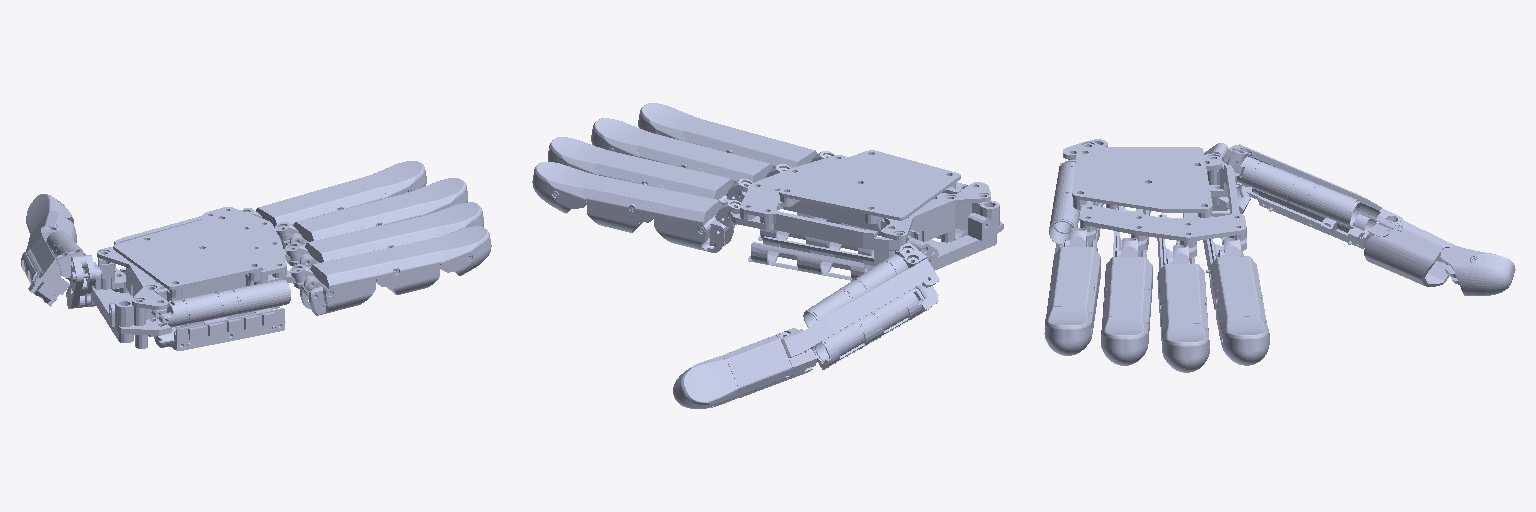
robot.urdf — 01_hand_r_fih_v20_asm:
<?xml version="1.0" encoding="utf-8"?>
<robot name="01_hand_r_fih_v20_asm">

	<material name="hand_color">
		<color rgba="0.792 0.820 0.933 1" />
	</material>

	<link name="fih_z_hand_r_base_link">
		<inertial>
			<origin xyz="0.024699 0.002853 0.001734" rpy="0 0 0" />
			<mass value="0.038686" />
			<inertia ixx="1.062968e-05" ixy="-3.748245e-06" ixz="-1.392614e-06" iyy="1.714280e-05" iyz="-2.573853e-07" izz="2.642744e-05" />
		</inertial>
		<visual>
			<geometry>
				<mesh filename="../meshes/FIH_HAND_R_ZHAOWEI/R_HAND_BASE.STL" />
			</geometry>
			<material name="hand_color" />
		</visual>
		<collision>
			<geometry>
				<mesh filename="../meshes/FIH_HAND_R_ZHAOWEI/R_HAND_BASE.STL" />
			</geometry>
		</collision>
	</link>

	<link name="L_T_J1">
		<inertial>
			<origin xyz="0.007145 -0.001439 0.004815" rpy="0 0 0" />
			<mass value="0.001791" />
			<inertia ixx="1.573251e-07" ixy="-7.117377e-09" ixz="4.372719e-09" iyy="1.398212e-07" iyz="-3.701533e-08" izz="5.541514e-08" />
		</inertial>
		<visual>
			<geometry>
				<mesh filename="../meshes/FIH_HAND_R_ZHAOWEI/L_T_J1.STL" />
			</geometry>
			<material name="hand_color" />
		</visual>
		<collision>
			<geometry>
				<mesh filename="../meshes/FIH_HAND_R_ZHAOWEI/L_T_J1.STL" />
			</geometry>
		</collision>
	</link>
	<joint name="T_J1" type="revolute">
		<origin xyz="-0.012827 0.032945 -0.011882" rpy="0 0 1.309" />
		<parent link="fih_z_hand_r_base_link" />
		<child link="L_T_J1" />
		<axis xyz="0 1 0" />
		<limit lower="0" upper="2.2835" effort="0" velocity="0" />
	</joint>

	<link name="L_T_J2">
		<inertial>
			<origin xyz="0.033861 0.000255 -0.005408" rpy="0 0 0" />
			<mass value="0.009615" />
			<inertia ixx="4.329191e-07" ixy="7.158225e-07" ixz="1.044962e-07" iyy="3.378217e-06" iyz="-4.819391e-08" izz="3.550903e-06" />
		</inertial>
		<visual>
			<geometry>
				<mesh filename="../meshes/FIH_HAND_R_ZHAOWEI/L_T_J2.STL" />
			</geometry>
			<material name="hand_color" />
		</visual>
		<collision>
			<geometry>
				<mesh filename="../meshes/FIH_HAND_R_ZHAOWEI/L_T_J2.STL" />
			</geometry>
		</collision>
	</link>
	<joint name="T_J2" type="revolute">
		<origin xyz="0.0097888 0.0051537 0.014364" rpy="-0.23678 0.26797 0" />
		<parent link="L_T_J1" />
		<child link="L_T_J2" />
		<axis xyz="0 0 1" />
		<limit lower="-1.3809" upper="0" effort="0" velocity="0" />
	</joint>

	<link name="L_T_J3">
		<inertial>
			<origin xyz="0.014122 0.001171 -0.000375" rpy="0 0 0" />
			<mass value="0.005264" />
			<inertia ixx="3.256736e-07" ixy="2.276884e-08" ixz="-9.251373e-08" iyy="6.447870e-07" iyz="-1.882080e-09" izz="6.874557e-07" />
		</inertial>
		<visual>
			<geometry>
				<mesh filename="../meshes/FIH_HAND_R_ZHAOWEI/L_T_J3.STL" />
			</geometry>
			<material name="hand_color" />
		</visual>
		<collision>
			<geometry>
				<mesh filename="../meshes/FIH_HAND_R_ZHAOWEI/L_T_J3.STL" />
			</geometry>
		</collision>
	</link>
	<joint name="T_J3" type="revolute">
		<origin xyz="0.06741 -0.0076576 -0.0085065" rpy="-0.61087 0 -0.33992" />
		<parent link="L_T_J2" />
		<child link="L_T_J3" />
		<axis xyz="0 1 0" />
		<limit lower="0" upper="1.0573" effort="0" velocity="0" />
	</joint>

	<link name="L_T_J4">
		<inertial>
			<origin xyz="0.012655 -0.000045 0.001432" rpy="0 0 0" />
			<mass value="0.005606" />
			<inertia ixx="2.516417e-07" ixy="-2.154044e-09" ixz="-6.616384e-08" iyy="3.073506e-07" iyz="-1.532852e-09" izz="3.591174e-07" />
		</inertial>
		<visual>
			<geometry>
				<mesh filename="../meshes/FIH_HAND_R_ZHAOWEI/L_T_J4.STL" />
			</geometry>
			<material name="hand_color" />
		</visual>
		<collision>
			<geometry>
				<mesh filename="../meshes/FIH_HAND_R_ZHAOWEI/L_T_J4.STL" />
			</geometry>
		</collision>
	</link>
	<joint name="T_J4" type="revolute">
		<origin xyz="0.0365 0 0.0029378" rpy="0 0 0" />
		<parent link="L_T_J3" />
		<child link="L_T_J4" />
		<axis xyz="0 1 0" />
		<limit lower="0" upper="0.7714" effort="0" velocity="0" />
	</joint>

	<link name="L_F1_J1">
		<inertial>
			<origin xyz="0.002490 -0.001196 -0.002215" rpy="0 0 0" />
			<mass value="0.000594" />
			<inertia ixx="1.235470e-08" ixy="5.142835e-10" ixz="1.253181e-09" iyy="1.259654e-08" iyz="-1.965720e-09" izz="7.479375e-09" />
		</inertial>
		<visual>
			<geometry>
				<mesh filename="../meshes/FIH_HAND_R_ZHAOWEI/L_F1_J1.STL" />
			</geometry>
			<material name="hand_color" />
		</visual>
		<collision>
			<geometry>
				<mesh filename="../meshes/FIH_HAND_R_ZHAOWEI/L_F1_J1.STL" />
			</geometry>
		</collision>
	</link>
	<joint name="F1_J1" type="revolute">
		<origin xyz="0.079768 0.039143 0.0041075" rpy="0 -0.2618 0.073258" />
		<parent link="fih_z_hand_r_base_link" />
		<child link="L_F1_J1" />
		<axis xyz="0 0 1" />
		<limit lower="-0.2618" upper="0.2618" effort="0" velocity="0" />
	</joint>

	<link name="L_F1_J2">
		<inertial>
			<origin xyz="0.013691 0.000867 0.000898" rpy="0 0 0" />
			<mass value="0.004158" />
			<inertia ixx="2.663598e-07" ixy="-1.964405e-09" ixz="-7.452387e-08" iyy="4.709684e-07" iyz="-3.794088e-09" izz="5.335600e-07" />
		</inertial>
		<visual>
			<geometry>
				<mesh filename="../meshes/FIH_HAND_R_ZHAOWEI/L_F1_J2.STL" />
			</geometry>
			<material name="hand_color" />
		</visual>
		<collision>
			<geometry>
				<mesh filename="../meshes/FIH_HAND_R_ZHAOWEI/L_F1_J2.STL" />
			</geometry>
		</collision>
	</link>
	<joint name="F1_J2" type="revolute">
		<origin xyz="0.003 -0.000825 -0.009075" rpy="0 0.2618 0" />
		<parent link="L_F1_J1" />
		<child link="L_F1_J2" />
		<axis xyz="0 1 0" />
		<limit lower="-0.3222" upper="1.4912" effort="0" velocity="0" />
	</joint>

	<link name="L_F1_J3">
		<inertial>
			<origin xyz="0.013726 -0.000171 -0.001798" rpy="0 0 0" />
			<mass value="0.004373" />
			<inertia ixx="2.552264e-07" ixy="5.181572e-09" ixz="9.373228e-10" iyy="4.841354e-07" iyz="6.949725e-10" izz="5.797885e-07" />
		</inertial>
		<visual>
			<geometry>
				<mesh filename="../meshes/FIH_HAND_R_ZHAOWEI/L_F1_J3.STL" />
			</geometry>
			<material name="hand_color" />
		</visual>
		<collision>
			<geometry>
				<mesh filename="../meshes/FIH_HAND_R_ZHAOWEI/L_F1_J3.STL" />
			</geometry>
		</collision>
	</link>
	<joint name="F1_J3" type="revolute">
		<origin xyz="0.033 0.000825 0.004" rpy="0 0 0" />
		<parent link="L_F1_J2" />
		<child link="L_F1_J3" />
		<axis xyz="0 1 0" />
		<limit lower="0" upper="1.2966" effort="0" velocity="0" />
	</joint>

	<link name="L_F1_J4">
		<inertial>
			<origin xyz="0.012816 -0.000022 -0.000164" rpy="0 0 0" />
			<mass value="0.005541" />
			<inertia ixx="2.356529e-07" ixy="-2.332143e-09" ixz="-5.046792e-08" iyy="3.073145e-07" iyz="-1.246694e-09" izz="3.730348e-07" />
		</inertial>
		<visual>
			<geometry>
				<mesh filename="../meshes/FIH_HAND_R_ZHAOWEI/L_F1_J4.STL" />
			</geometry>
			<material name="hand_color" />
		</visual>
		<collision>
			<geometry>
				<mesh filename="../meshes/FIH_HAND_R_ZHAOWEI/L_F1_J4.STL" />
			</geometry>
		</collision>
	</link>
	<joint name="F1_J4" type="revolute">
		<origin xyz="0.033 0 0" rpy="0 0 0" />
		<parent link="L_F1_J3" />
		<child link="L_F1_J4" />
		<axis xyz="0 1 0" />
		<limit lower="0" upper="1.1421" effort="0" velocity="0" />
	</joint>

	<link name="L_F2_J1">
		<inertial>
			<origin xyz="0.002979 -0.001196 -0.001495" rpy="0 0 0" />
			<mass value="0.000594" />
			<inertia ixx="1.140153e-08" ixy="1.005525e-09" ixz="2.304119e-09" iyy="1.259654e-08" iyz="-1.765635e-09" izz="8.432551e-09" />
		</inertial>
		<visual>
			<geometry>
				<mesh filename="../meshes/FIH_HAND_R_ZHAOWEI/L_F2_J1.STL" />
			</geometry>
			<material name="hand_color" />
		</visual>
		<collision>
			<geometry>
				<mesh filename="../meshes/FIH_HAND_R_ZHAOWEI/L_F2_J1.STL" />
			</geometry>
		</collision>
	</link>
	<joint name="F2_J1" type="revolute">
		<origin xyz="0.086755 0.017383 0.0041075" rpy="0 0 0.027471" />
		<parent link="fih_z_hand_r_base_link" />
		<child link="L_F2_J1" />
		<axis xyz="0 0 1" />
		<limit lower="-0.2618" upper="0.2618" effort="0" velocity="0" />
	</joint>

	<link name="L_F2_J2">
		<inertial>
			<origin xyz="0.013691 0.000867 0.000898" rpy="0 0 0" />
			<mass value="0.004158" />
			<inertia ixx="2.663598e-07" ixy="-1.964402e-09" ixz="-7.452387e-08" iyy="4.709684e-07" iyz="-3.794091e-09" izz="5.335600e-07" />
		</inertial>
		<visual>
			<geometry>
				<mesh filename="../meshes/FIH_HAND_R_ZHAOWEI/L_F2_J2.STL" />
			</geometry>
			<material name="hand_color" />
		</visual>
		<collision>
			<geometry>
				<mesh filename="../meshes/FIH_HAND_R_ZHAOWEI/L_F2_J2.STL" />
			</geometry>
		</collision>
	</link>
	<joint name="F2_J2" type="revolute">
		<origin xyz="0.0052466 -0.000825 -0.0079893" rpy="0 0 0" />
		<parent link="L_F2_J1" />
		<child link="L_F2_J2" />
		<axis xyz="0 1 0" />
		<limit lower="-0.3028" upper="1.5151" effort="0" velocity="0" />
	</joint>

	<link name="L_F2_J3">
		<inertial>
			<origin xyz="0.013751 -0.000201 -0.001812" rpy="0 0 0" />
			<mass value="0.004357" />
			<inertia ixx="2.551663e-07" ixy="5.181590e-09" ixz="9.373164e-10" iyy="4.841229e-07" iyz="6.948953e-10" izz="5.797284e-07" />
		</inertial>
		<visual>
			<geometry>
				<mesh filename="../meshes/FIH_HAND_R_ZHAOWEI/L_F2_J3.STL" />
			</geometry>
			<material name="hand_color" />
		</visual>
		<collision>
			<geometry>
				<mesh filename="../meshes/FIH_HAND_R_ZHAOWEI/L_F2_J3.STL" />
			</geometry>
		</collision>
	</link>
	<joint name="F2_J3" type="revolute">
		<origin xyz="0.033 0.000825 0.004" rpy="0 0 0" />
		<parent link="L_F2_J2" />
		<child link="L_F2_J3" />
		<axis xyz="0 1 0" />
		<limit lower="0" upper="1.2966" effort="0" velocity="0" />
	</joint>

	<link name="L_F2_J4">
		<inertial>
			<origin xyz="0.012816 -0.000022 -0.000164" rpy="0 0 0" />
			<mass value="0.005541" />
			<inertia ixx="2.356529e-07" ixy="-2.332073e-09" ixz="-5.046791e-08" iyy="3.073143e-07" iyz="-1.246742e-09" izz="3.730346e-07" />
		</inertial>
		<visual>
			<geometry>
				<mesh filename="../meshes/FIH_HAND_R_ZHAOWEI/L_F2_J4.STL" />
			</geometry>
			<material name="hand_color" />
		</visual>
		<collision>
			<geometry>
				<mesh filename="../meshes/FIH_HAND_R_ZHAOWEI/L_F2_J4.STL" />
			</geometry>
		</collision>
	</link>
	<joint name="F2_J4" type="revolute">
		<origin xyz="0.033 0 0" rpy="0 0 0" />
		<parent link="L_F2_J3" />
		<child link="L_F2_J4" />
		<axis xyz="0 1 0" />
		<limit lower="0" upper="1.1421" effort="0" velocity="0" />
	</joint>

	<link name="L_F3_J1">
		<inertial>
			<origin xyz="0.002490 -0.001196 -0.002215" rpy="0 0 0" />
			<mass value="0.000594" />
			<inertia ixx="1.235470e-08" ixy="5.142829e-10" ixz="1.253181e-09" iyy="1.259654e-08" iyz="-1.965722e-09" izz="7.479376e-09" />
		</inertial>
		<visual>
			<geometry>
				<mesh filename="../meshes/FIH_HAND_R_ZHAOWEI/L_F3_J1.STL" />
			</geometry>
			<material name="hand_color" />
		</visual>
		<collision>
			<geometry>
				<mesh filename="../meshes/FIH_HAND_R_ZHAOWEI/L_F3_J1.STL" />
			</geometry>
		</collision>
	</link>
	<joint name="F3_J1" type="revolute">
		<origin xyz="0.079755 -0.0043288 0.0041075" rpy="0 -0.2618 -0.027469" />
		<parent link="fih_z_hand_r_base_link" />
		<child link="L_F3_J1" />
		<axis xyz="0 0 1" />
		<limit lower="-0.2618" upper="0.2618" effort="0" velocity="0" />
	</joint>

	<link name="L_F3_J2">
		<inertial>
			<origin xyz="0.013691 0.000867 0.000898" rpy="0 0 0" />
			<mass value="0.004158" />
			<inertia ixx="2.663598e-07" ixy="-1.964398e-09" ixz="-7.452386e-08" iyy="4.709685e-07" iyz="-3.794094e-09" izz="5.335601e-07" />
		</inertial>
		<visual>
			<geometry>
				<mesh filename="../meshes/FIH_HAND_R_ZHAOWEI/L_F3_J2.STL" />
			</geometry>
			<material name="hand_color" />
		</visual>
		<collision>
			<geometry>
				<mesh filename="../meshes/FIH_HAND_R_ZHAOWEI/L_F3_J2.STL" />
			</geometry>
		</collision>
	</link>
	<joint name="F3_J2" type="revolute">
		<origin xyz="0.003 -0.000825 -0.009075" rpy="0 0.2618 0" />
		<parent link="L_F3_J1" />
		<child link="L_F3_J2" />
		<axis xyz="0 1 0" />
		<limit lower="-0.2820" upper="1.5423" effort="0" velocity="0" />
	</joint>

	<link name="L_F3_J3">
		<inertial>
			<origin xyz="0.013726 -0.000171 -0.001798" rpy="0 0 0" />
			<mass value="0.004373" />
			<inertia ixx="2.552264e-07" ixy="5.181545e-09" ixz="9.373220e-10" iyy="4.841356e-07" iyz="6.949806e-10" izz="5.797886e-07" />
		</inertial>
		<visual>
			<geometry>
				<mesh filename="../meshes/FIH_HAND_R_ZHAOWEI/L_F3_J3.STL" />
			</geometry>
			<material name="hand_color" />
		</visual>
		<collision>
			<geometry>
				<mesh filename="../meshes/FIH_HAND_R_ZHAOWEI/L_F3_J3.STL" />
			</geometry>
		</collision>
	</link>
	<joint name="F3_J3" type="revolute">
		<origin xyz="0.033 0.000825 0.004" rpy="0 0 0" />
		<parent link="L_F3_J2" />
		<child link="L_F3_J3" />
		<axis xyz="0 1 0" />
		<limit lower="0" upper="1.2966" effort="0" velocity="0" />
	</joint>

	<link name="L_F3_J4">
		<inertial>
			<origin xyz="0.012816 -0.000022 -0.000164" rpy="0 0 0" />
			<mass value="0.005541" />
			<inertia ixx="2.356528e-07" ixy="-2.332004e-09" ixz="-5.046791e-08" iyy="3.073141e-07" iyz="-1.246774e-09" izz="3.730344e-07" />
		</inertial>
		<visual>
			<geometry>
				<mesh filename="../meshes/FIH_HAND_R_ZHAOWEI/L_F3_J4.STL" />
			</geometry>
			<material name="hand_color" />
		</visual>
		<collision>
			<geometry>
				<mesh filename="../meshes/FIH_HAND_R_ZHAOWEI/L_F3_J4.STL" />
			</geometry>
		</collision>
	</link>
	<joint name="F3_J4" type="revolute">
		<origin xyz="0.033 0 0" rpy="0 0 0" />
		<parent link="L_F3_J3" />
		<child link="L_F3_J4" />
		<axis xyz="0 1 0" />
		<limit lower="0" upper="1.1421" effort="0" velocity="0" />
	</joint>

	<link name="L_F4_J1">
		<inertial>
			<origin xyz="0.002490 -0.001196 -0.002215" rpy="0 0 0" />
			<mass value="0.000594" />
			<inertia ixx="1.235470e-08" ixy="5.142829e-10" ixz="1.253181e-09" iyy="1.259654e-08" iyz="-1.965722e-09" izz="7.479375e-09" />
		</inertial>
		<visual>
			<geometry>
				<mesh filename="../meshes/FIH_HAND_R_ZHAOWEI/L_F4_J1.STL" />
			</geometry>
			<material name="hand_color" />
		</visual>
		<collision>
			<geometry>
				<mesh filename="../meshes/FIH_HAND_R_ZHAOWEI/L_F4_J1.STL" />
			</geometry>
		</collision>
	</link>
	<joint name="F4_J1" type="revolute">
		<origin xyz="0.069761 -0.026185 0.0041075" rpy="0 -0.2618 -0.054935" />
		<parent link="fih_z_hand_r_base_link" />
		<child link="L_F4_J1" />
		<axis xyz="0 0 1" />
		<limit lower="-0.2618" upper="0.2618" effort="0" velocity="0" />
	</joint>

	<link name="L_F4_J2">
		<inertial>
			<origin xyz="0.013691 0.000867 0.000898" rpy="0 0 0" />
			<mass value="0.004158" />
			<inertia ixx="2.663597e-07" ixy="-1.964396e-09" ixz="-7.452386e-08" iyy="4.709685e-07" iyz="-3.794094e-09" izz="5.335601e-07" />
		</inertial>
		<visual>
			<geometry>
				<mesh filename="../meshes/FIH_HAND_R_ZHAOWEI/L_F4_J2.STL" />
			</geometry>
			<material name="hand_color" />
		</visual>
		<collision>
			<geometry>
				<mesh filename="../meshes/FIH_HAND_R_ZHAOWEI/L_F4_J2.STL" />
			</geometry>
		</collision>
	</link>
	<joint name="F4_J2" type="revolute">
		<origin xyz="0.003 -0.000825 -0.009075" rpy="0 0.2618 0" />
		<parent link="L_F4_J1" />
		<child link="L_F4_J2" />
		<axis xyz="0 1 0" />
		<limit lower="-0.2608" upper="1.5722" effort="0" velocity="0" />
	</joint>

	<link name="L_F4_J3">
		<inertial>
			<origin xyz="0.013726 -0.000171 -0.001798" rpy="0 0 0" />
			<mass value="0.004373" />
			<inertia ixx="2.552264e-07" ixy="5.181534e-09" ixz="9.373218e-10" iyy="4.841356e-07" iyz="6.949833e-10" izz="5.797887e-07" />
		</inertial>
		<visual>
			<geometry>
				<mesh filename="../meshes/FIH_HAND_R_ZHAOWEI/L_F4_J3.STL" />
			</geometry>
			<material name="hand_color" />
		</visual>
		<collision>
			<geometry>
				<mesh filename="../meshes/FIH_HAND_R_ZHAOWEI/L_F4_J3.STL" />
			</geometry>
		</collision>
	</link>
	<joint name="F4_J3" type="revolute">
		<origin xyz="0.033 0.000825 0.004" rpy="0 0 0" />
		<parent link="L_F4_J2" />
		<child link="L_F4_J3" />
		<axis xyz="0 1 0" />
		<limit lower="0" upper="1.2966" effort="0" velocity="0" />
	</joint>

	<link name="L_F4_J4">
		<inertial>
			<origin xyz="0.012816 -0.000022 -0.000164" rpy="0 0 0" />
			<mass value="0.005541" />
			<inertia ixx="2.356528e-07" ixy="-2.332015e-09" ixz="-5.046791e-08" iyy="3.073142e-07" iyz="-1.246758e-09" izz="3.730345e-07" />
		</inertial>
		<visual>
			<geometry>
				<mesh filename="../meshes/FIH_HAND_R_ZHAOWEI/L_F4_J4.STL" />
			</geometry>
			<material name="hand_color" />
		</visual>
		<collision>
			<geometry>
				<mesh filename="../meshes/FIH_HAND_R_ZHAOWEI/L_F4_J4.STL" />
			</geometry>
		</collision>
	</link>
	<joint name="F4_J4" type="revolute">
		<origin xyz="0.033 0 0" rpy="0 0 0" />
		<parent link="L_F4_J3" />
		<child link="L_F4_J4" />
		<axis xyz="0 1 0" />
		<limit lower="0" upper="1.1421" effort="0" velocity="0" />
	</joint>

	<link name="wrist_center">
		<inertial>
			<origin xyz="0 0 0" rpy="0 0 0" />
			<mass value="0" />
			<inertia ixx="0" ixy="0" ixz="0" iyy="0" iyz="0" izz="0" />
		</inertial>
	</link>
	<joint name="wrist_center_joint" type="fixed">
		<origin xyz="-0.018 0.002853 0.001734" rpy="0 0 0" />
		<parent link="fih_z_hand_r_base_link" />
		<child link="wrist_center" />
	</joint>

	<link name="thumb_tip">
		<inertial>
			<origin xyz="0 0 0" rpy="0 0 0" />
			<mass value="0" />
			<inertia ixx="0" ixy="0" ixz="0" iyy="0" iyz="0" izz="0" />
		</inertial>
	</link>
	<joint name="thumb_tip_joint" type="fixed">
		<origin xyz="0.015 0 0" rpy="0 0 0" />
		<parent link="L_T_J4" />
		<child link="thumb_tip" />
	</joint>

	<link name="finger1_tip">
		<inertial>
			<origin xyz="0 0 0" rpy="0 0 0" />
			<mass value="0" />
			<inertia ixx="0" ixy="0" ixz="0" iyy="0" iyz="0" izz="0" />
		</inertial>
	</link>
	<joint name="finger1_tip_joint" type="fixed">
		<origin xyz="0.015 0 0" rpy="0 0 0" />
		<parent link="L_F1_J4" />
		<child link="finger1_tip" />
	</joint>

	<link name="finger2_tip">
		<inertial>
			<origin xyz="0 0 0" rpy="0 0 0" />
			<mass value="0" />
			<inertia ixx="0" ixy="0" ixz="0" iyy="0" iyz="0" izz="0" />
		</inertial>
	</link>
	<joint name="finger2_tip_joint" type="fixed">
		<origin xyz="0.015 0 0" rpy="0 0 0" />
		<parent link="L_F2_J4" />
		<child link="finger2_tip" />
	</joint>

	<link name="finger3_tip">
		<inertial>
			<origin xyz="0 0 0" rpy="0 0 0" />
			<mass value="0" />
			<inertia ixx="0" ixy="0" ixz="0" iyy="0" iyz="0" izz="0" />
		</inertial>
	</link>
	<joint name="finger3_tip_joint" type="fixed">
		<origin xyz="0.015 0 0" rpy="0 0 0" />
		<parent link="L_F3_J4" />
		<child link="finger3_tip" />
	</joint>

	<link name="finger4_tip">
		<inertial>
			<origin xyz="0 0 0" rpy="0 0 0" />
			<mass value="0" />
			<inertia ixx="0" ixy="0" ixz="0" iyy="0" iyz="0" izz="0" />
		</inertial>
	</link>
	<joint name="finger4_tip_joint" type="fixed">
		<origin xyz="0.015 0 0" rpy="0 0 0" />
		<parent link="L_F4_J4" />
		<child link="finger4_tip" />
	</joint>

</robot>

--- What the picture shows (computed from the rendered views, not written in the file) ---
The picture shows the robot from 3 angles, left to right: view 1: azimuth 30°, elevation 25°; view 2: azimuth 150°, elevation 25°; view 3: azimuth 270°, elevation 25°; orthographic projection.
Model 01_hand_r_fih_v20_asm with 27 links and 26 joints (20 revolute, 6 fixed), rooted at fih_z_hand_r_base_link, posed every joint at zero.
Visible links, largest first — view 1: fih_z_hand_r_base_link, L_F4_J2, L_F4_J3, L_T_J2, L_F4_J4, L_F2_J3, L_F1_J3, L_F3_J3, L_F2_J2, L_F3_J2, L_F1_J4, L_F1_J2 (+4 smaller); view 2: fih_z_hand_r_base_link, L_T_J2, L_F1_J2, L_T_J3, L_F1_J3, L_T_J4, L_F1_J4, L_F2_J3, L_F3_J3, L_F4_J3, L_F2_J2, L_F3_J4 (+4 smaller); view 3: fih_z_hand_r_base_link, L_T_J2, L_T_J3, L_T_J4, L_F1_J4, L_F4_J4, L_F3_J4, L_F2_J4, L_F1_J3, L_F4_J3, L_F2_J3, L_F3_J3 (+5 smaller).
Link boxes in pixels (x1,y1,x2,y2): fih_z_hand_r_base_link: [67, 207, 304, 350]; L_F4_J2: [300, 253, 381, 315]; L_F4_J3: [368, 240, 444, 294]; L_T_J2: [21, 226, 85, 306]; L_F4_J4: [430, 226, 491, 275]; L_F2_J3: [347, 193, 424, 229]; L_F1_J3: [308, 177, 384, 214]; L_F3_J3: [361, 216, 438, 250]; L_F2_J2: [283, 209, 364, 266]; L_F3_J2: [305, 230, 376, 268]; L_F1_J4: [366, 161, 426, 198]; L_F1_J2: [256, 193, 326, 227]; fih_z_hand_r_base_link: [727, 150, 1003, 280]; L_T_J2: [776, 254, 939, 369]; L_F1_J2: [648, 189, 734, 252]; L_T_J3: [723, 335, 816, 397]; L_F1_J3: [581, 175, 662, 232]; L_T_J4: [673, 355, 741, 408]; L_F1_J4: [532, 162, 596, 213]; L_F2_J3: [595, 151, 674, 188]; L_F3_J3: [636, 134, 715, 171]; L_F4_J3: [682, 119, 761, 157]; L_F2_J2: [660, 166, 733, 204]; L_F3_J4: [591, 118, 653, 157]; fih_z_hand_r_base_link: [1049, 139, 1246, 279]; L_T_J2: [1236, 144, 1402, 248]; L_T_J3: [1364, 220, 1453, 286]; L_T_J4: [1441, 245, 1515, 295]; L_F1_J4: [1220, 316, 1269, 365]; L_F4_J4: [1044, 307, 1092, 355]; L_F3_J4: [1101, 317, 1148, 365]; L_F2_J4: [1162, 324, 1209, 372]; L_F1_J3: [1214, 284, 1266, 339]; L_F4_J3: [1047, 274, 1097, 327]; L_F2_J3: [1160, 291, 1208, 340]; L_F3_J3: [1102, 284, 1150, 330].
Bounding box of the posed robot: 0.2166 × 0.201 × 0.0539 m (x, y, z).
21 mesh visuals loaded from 21 distinct referenced files (21 binary STL).
